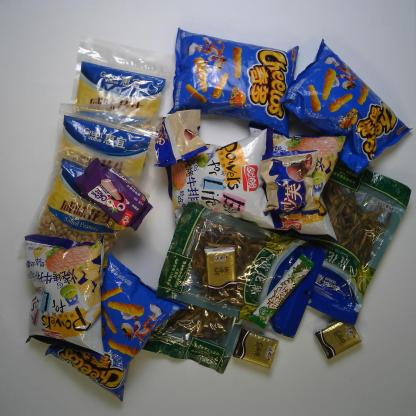Chocolate: (246, 252, 318, 329)
Dessert: (74, 156, 155, 232), (261, 150, 321, 216), (154, 110, 208, 167)
Dried Food: (156, 201, 328, 339), (303, 164, 412, 323), (141, 236, 251, 374)
Dried Fruit: (34, 160, 127, 257), (56, 114, 150, 190), (74, 60, 166, 128)
Puffed Food: (44, 253, 187, 401), (279, 38, 414, 174), (168, 26, 299, 138), (248, 122, 345, 244), (168, 129, 283, 227), (23, 233, 106, 363)
Tissue: (314, 319, 362, 360), (232, 327, 278, 369), (202, 246, 238, 293)
